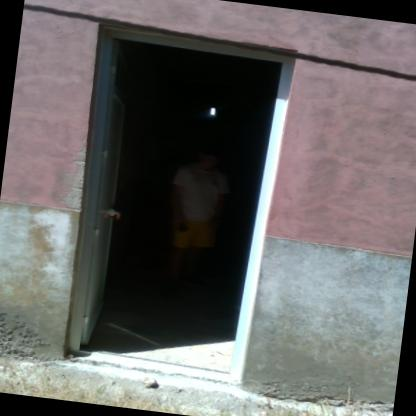open: (50, 6, 304, 390)
